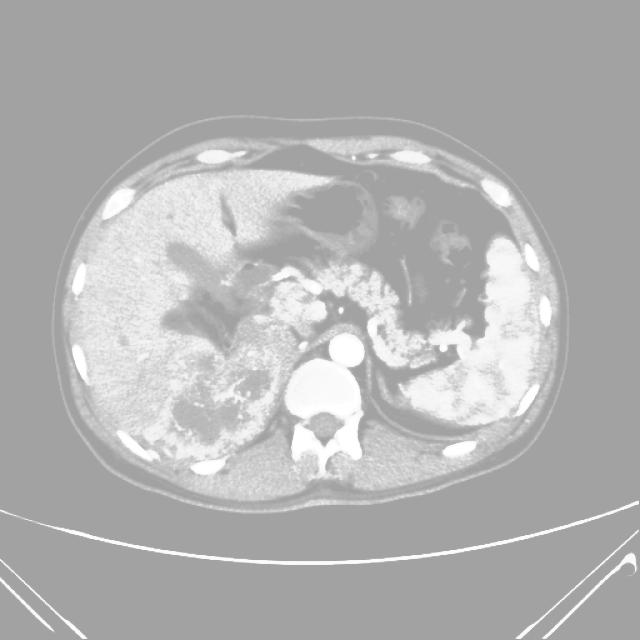TUMOR: (122, 154, 616, 434)
